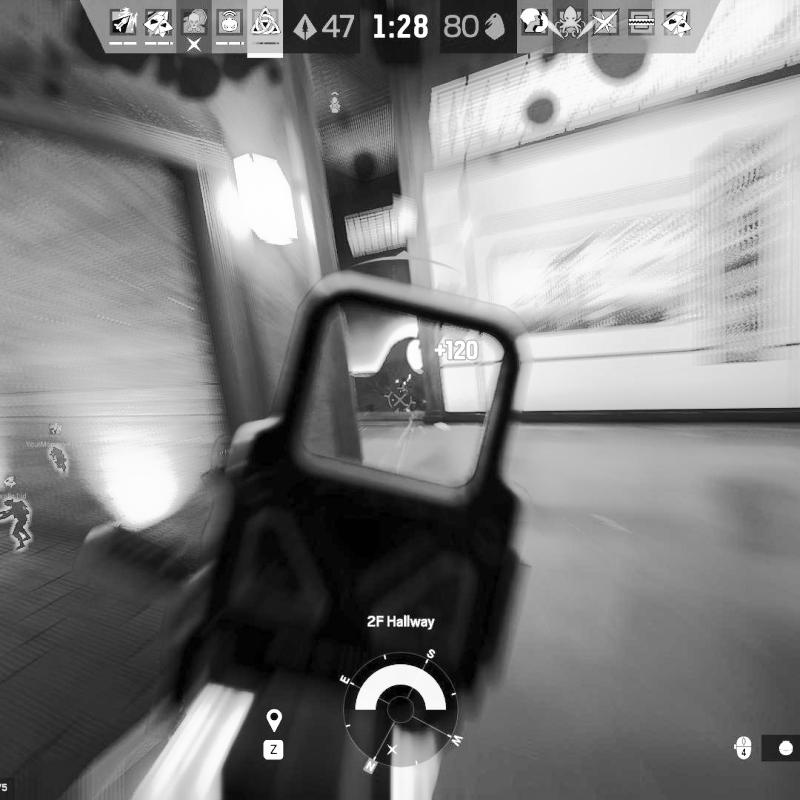Friend_label: (24, 420, 86, 449), (0, 473, 28, 500)
